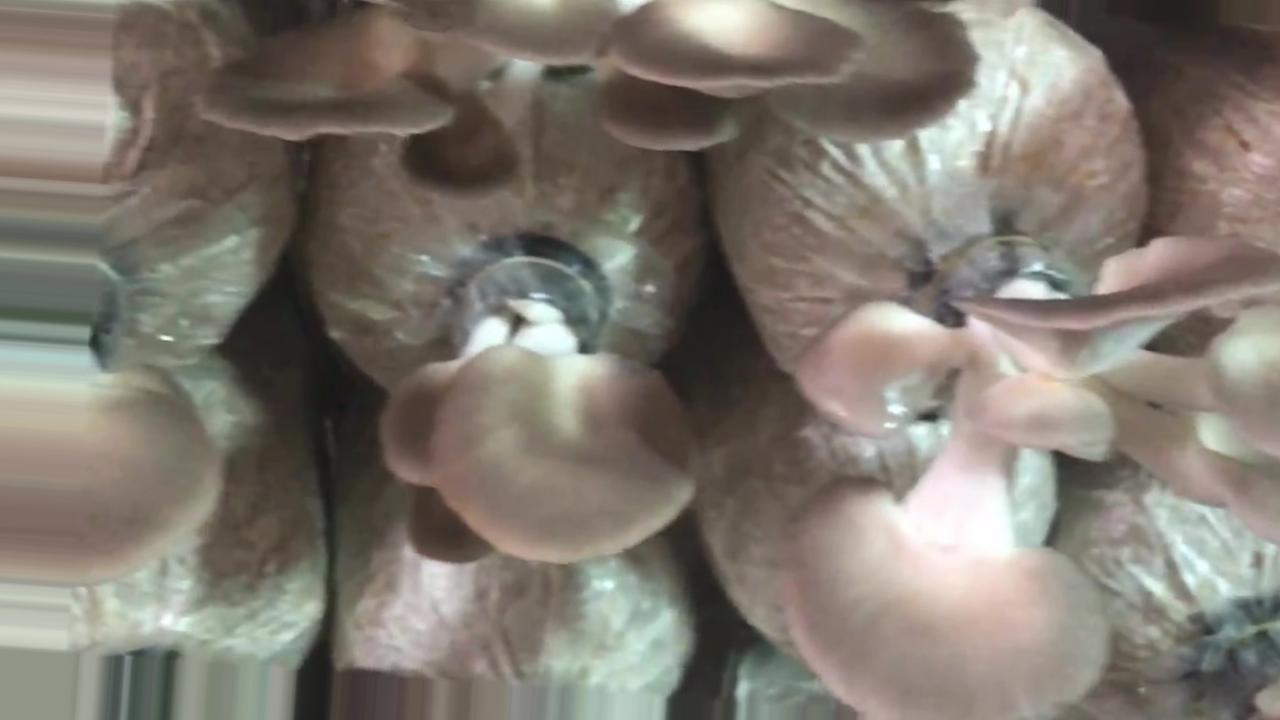nam: (774, 227, 1280, 714), (199, 1, 985, 200), (378, 234, 696, 574), (74, 259, 225, 593)
